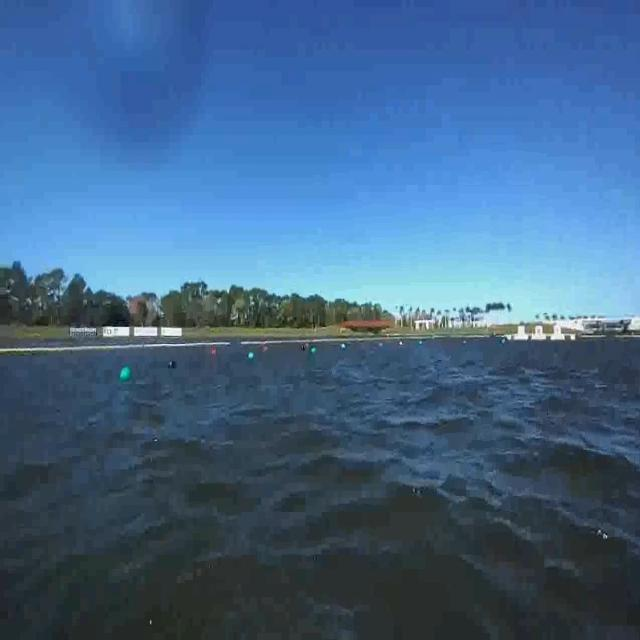green-buoy: (119, 366, 132, 380), (248, 351, 255, 361)
